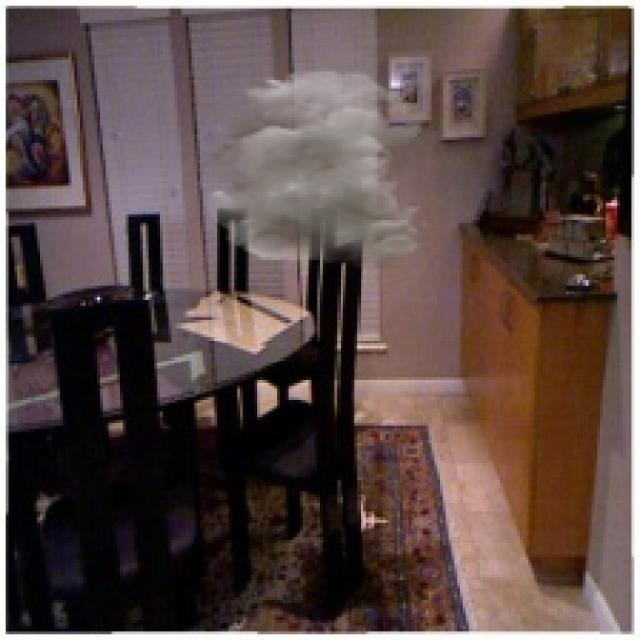smoke: (177, 68, 432, 272)
